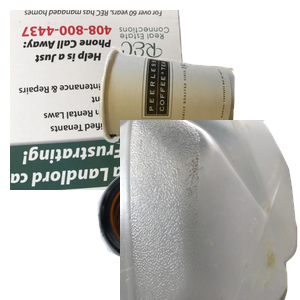glass: (95, 164, 286, 300)
paper: (10, 10, 201, 190)
plastic: (120, 120, 300, 300)
trash: (95, 44, 300, 180)
